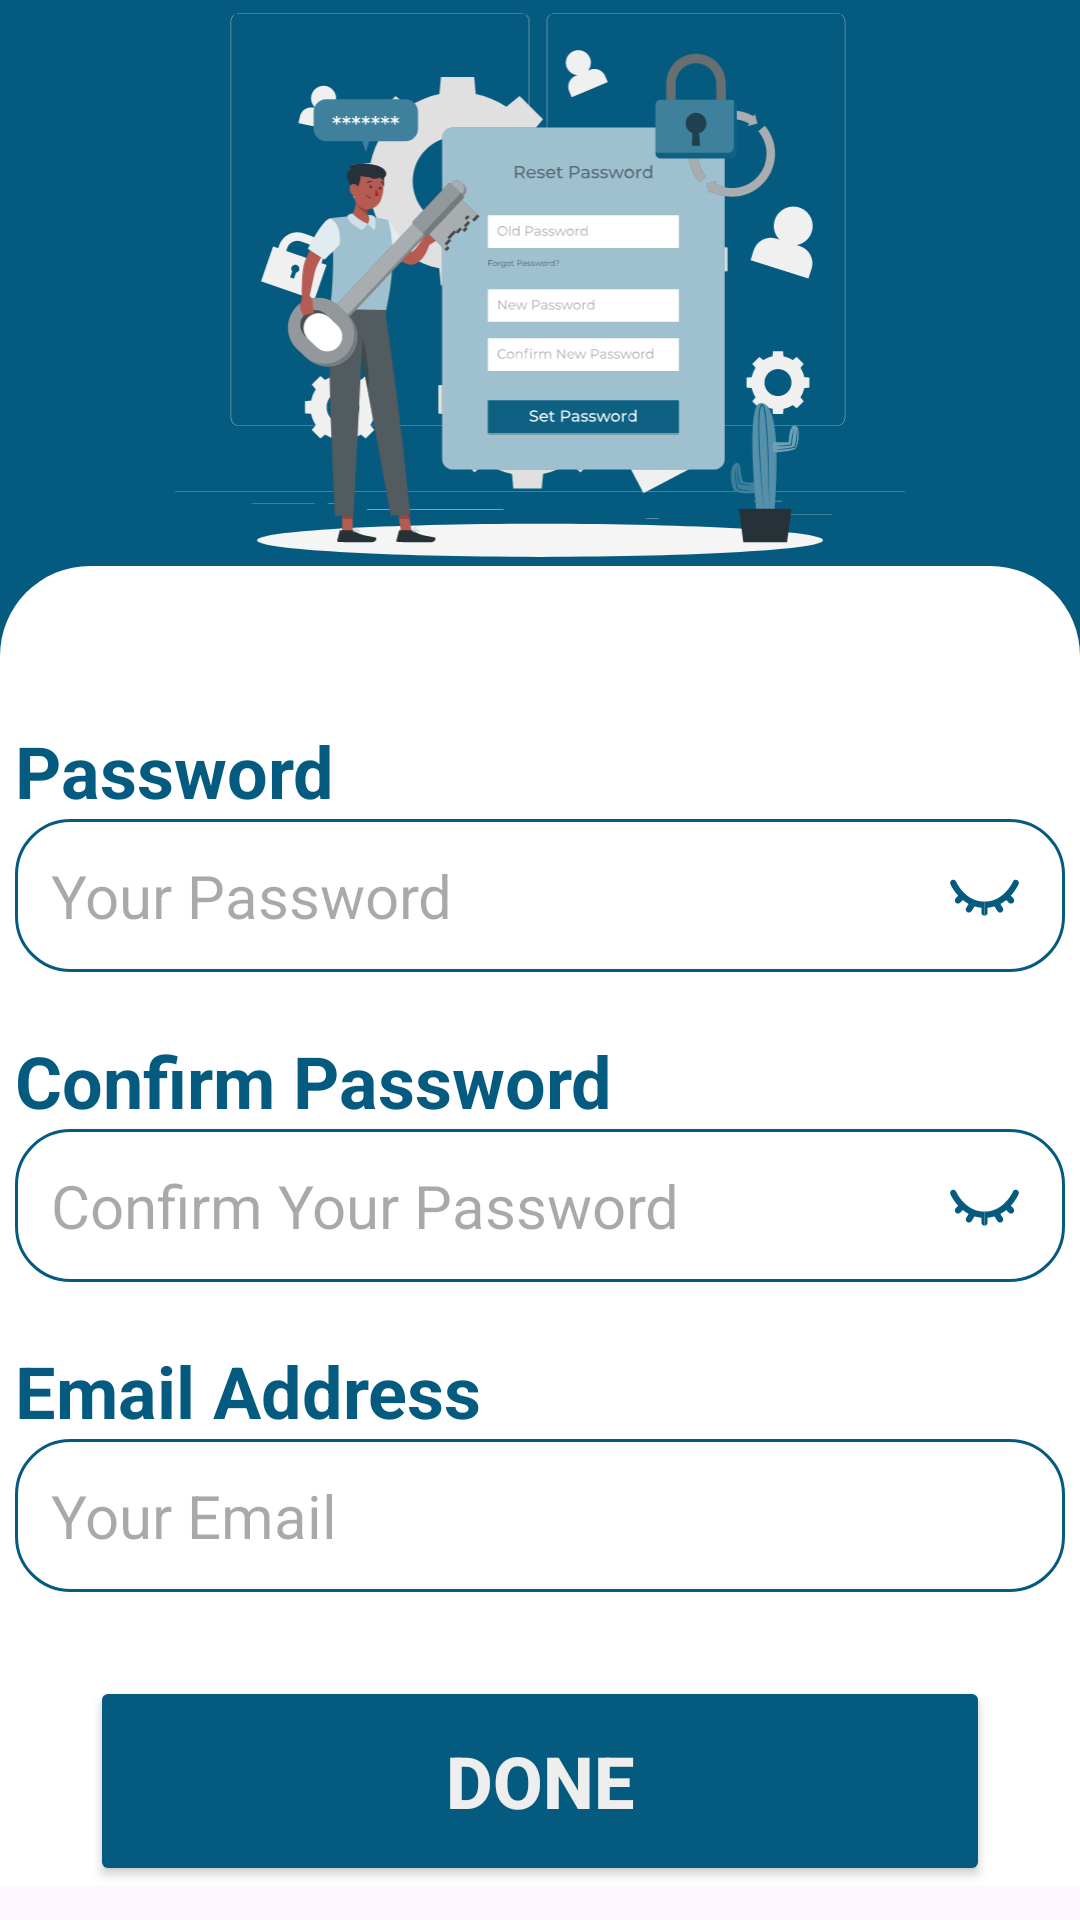

Named icons in this screenshot (1080 x 1920) and their centers, point (x, y):
hidden: point (984, 897), point (984, 1207)
